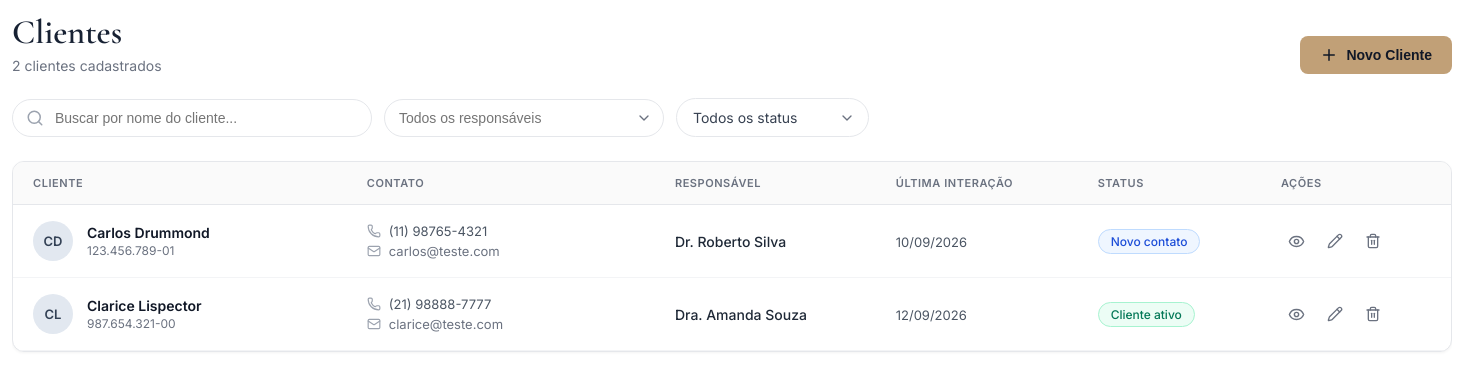
Test case: ClientesClient › filtra clientes por busca de texto pelo nome
In the field named "Buscar clientes": (192,118) left=12, top=98, right=372, bottom=136, type "Clarice"
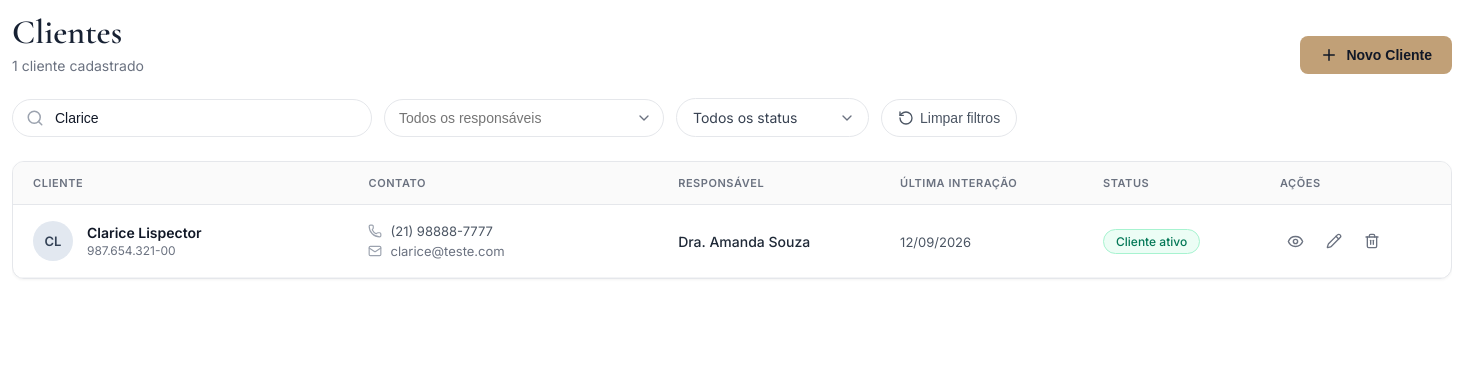
expect the text "Clarice Lispector" is shown: met, box left=87, top=224, right=202, bottom=241
expect the text "Carlos Drummond" is gone: met
